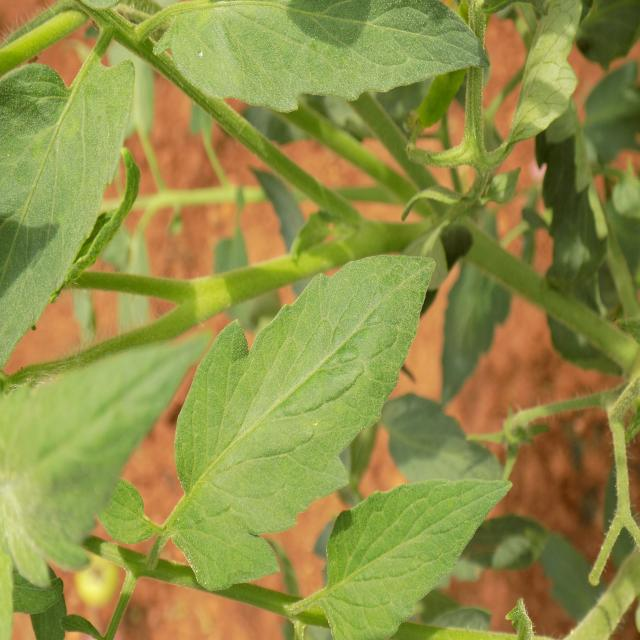tomato_healthy: (157, 247, 424, 595), (315, 472, 523, 640)
